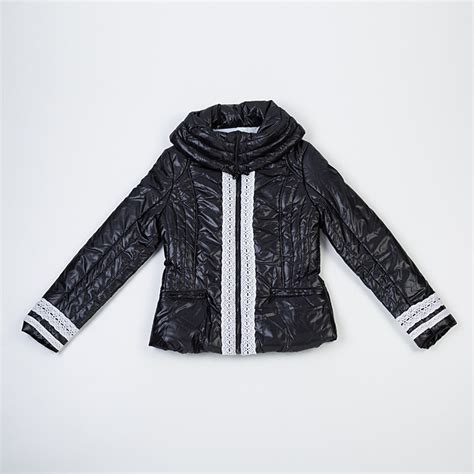nylon: (21, 100, 457, 353)
